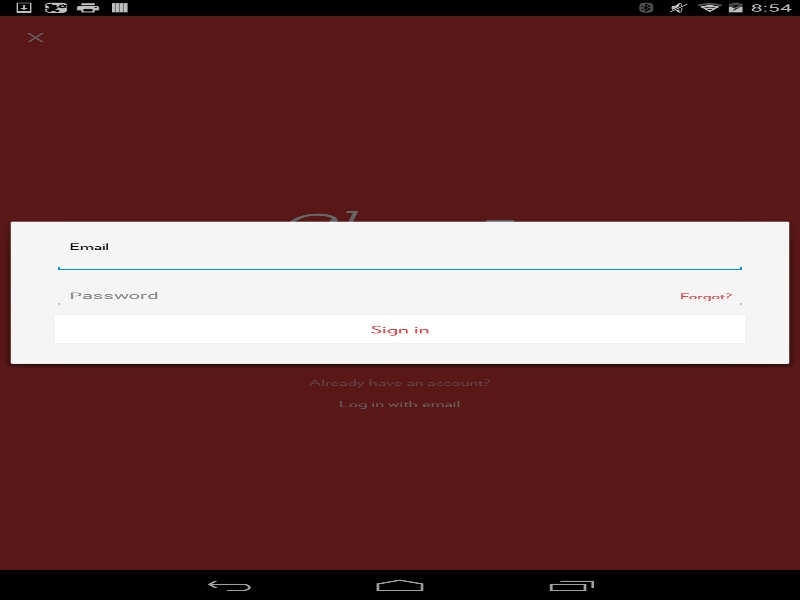Button: (53, 314, 746, 344)
Input: (53, 249, 746, 272), (53, 285, 746, 307)
